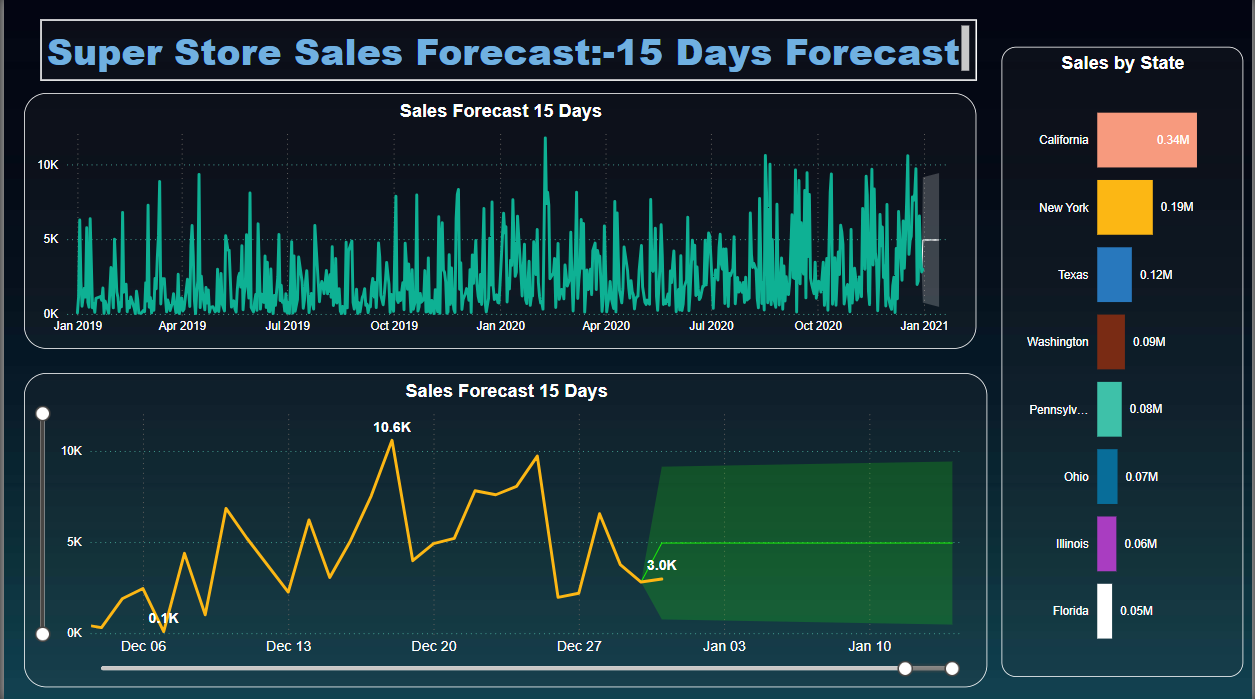

The dashboard page shown, as its layout file describes it:
{"tool":"powerbi","page":{"name":"Page 2","canvas":[1280,720],"ordinal":1},"visuals":[{"type":"lineChart","title":" Sales Forecast 15 Days","fields":{"Y":["Sum(SuperStore_Sales_Dataset.Sales)"],"Category":["SuperStore_Sales_Dataset.Order Date"]},"box":[20.9,97.7,976.7,262.8],"z":0},{"type":"lineChart","title":" Sales Forecast 15 Days","fields":{"Y":["Sum(SuperStore_Sales_Dataset.Sales)"],"Category":["SuperStore_Sales_Dataset.Order Date"]},"box":[20.9,384.9,988.4,322.1],"z":1000},{"type":"clusteredBarChart","title":"Sales by State","fields":{"Y":["Sum(SuperStore_Sales_Dataset.Sales)"],"Category":["SuperStore_Sales_Dataset.State"]},"box":[1023.3,50,247.7,646.5],"z":2000},{"type":"textbox","box":[37,22,960.6,63.1],"z":3000}]}

Visuals, with their boxes in screenshot pixels (x1, y1, x2, y2), scaled from the page's 1280x720 canvas onto the 1255x699 screenshot:
" Sales Forecast 15 Days" lineChart: (20, 95, 978, 350)
" Sales Forecast 15 Days" lineChart: (20, 374, 990, 686)
"Sales by State" clusteredBarChart: (1003, 49, 1246, 676)
textbox: (36, 21, 978, 83)
